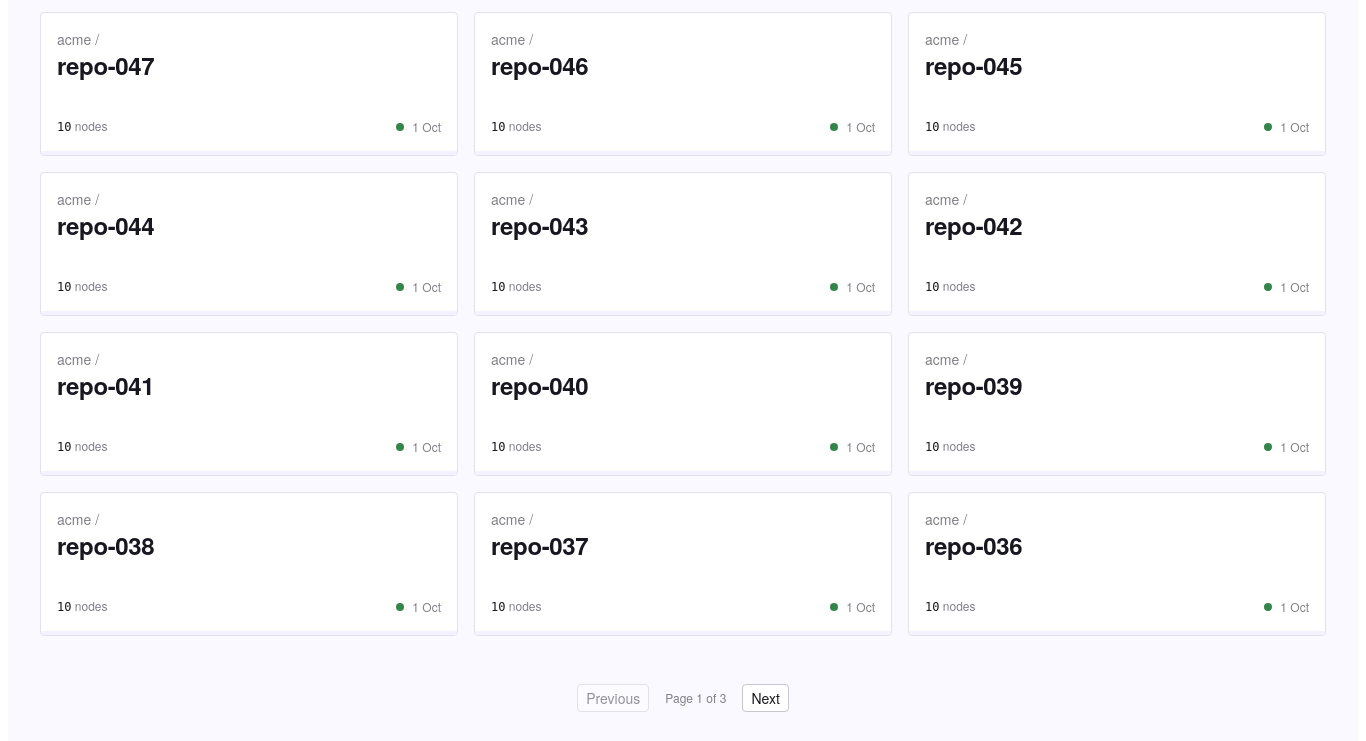
Dashboard paging › starts again from the first page when the filter changes, and hides the pager when one page is enough
(page scrolled)
Click the button "Next" at (766, 698), box left=742, top=684, right=789, bottom=712
(page scrolled)
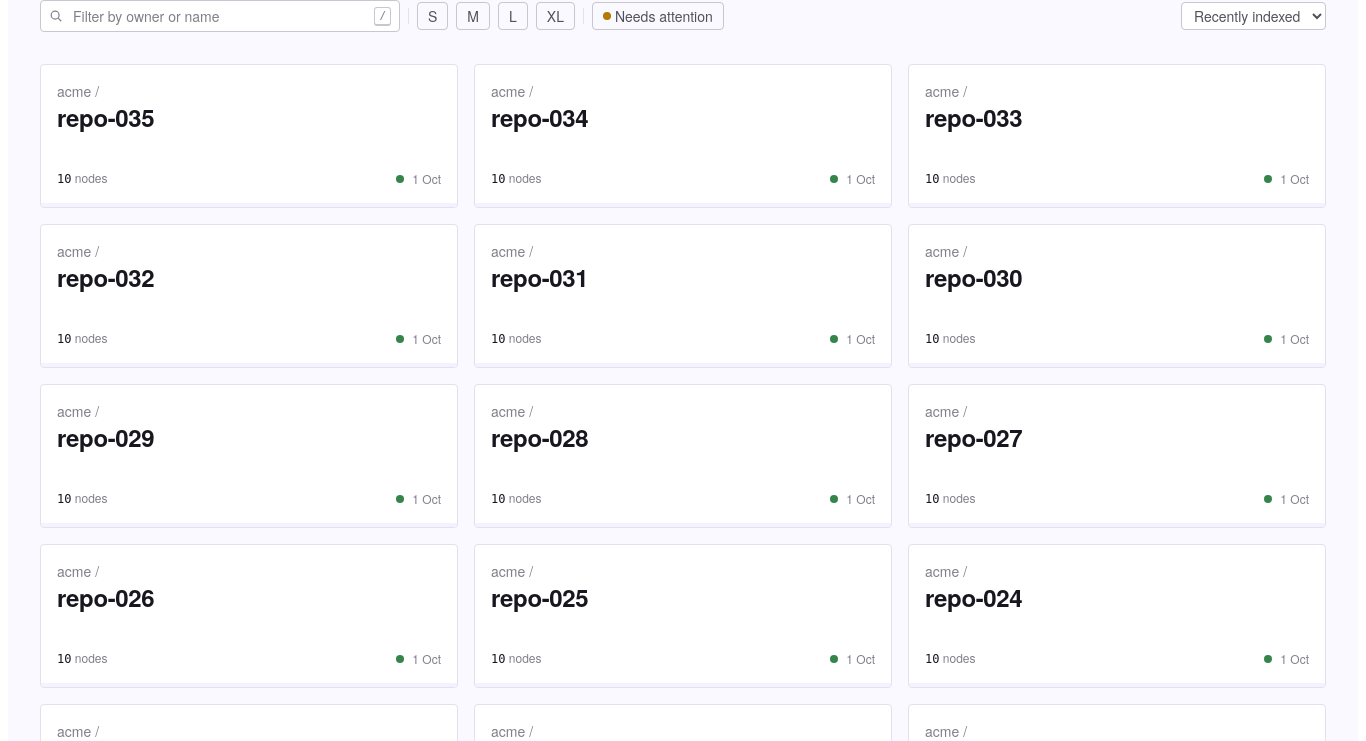
Type "repo-05" into the field named "Filter by owner or name" at (219, 16), box left=71, top=5, right=366, bottom=27
(page scrolled)
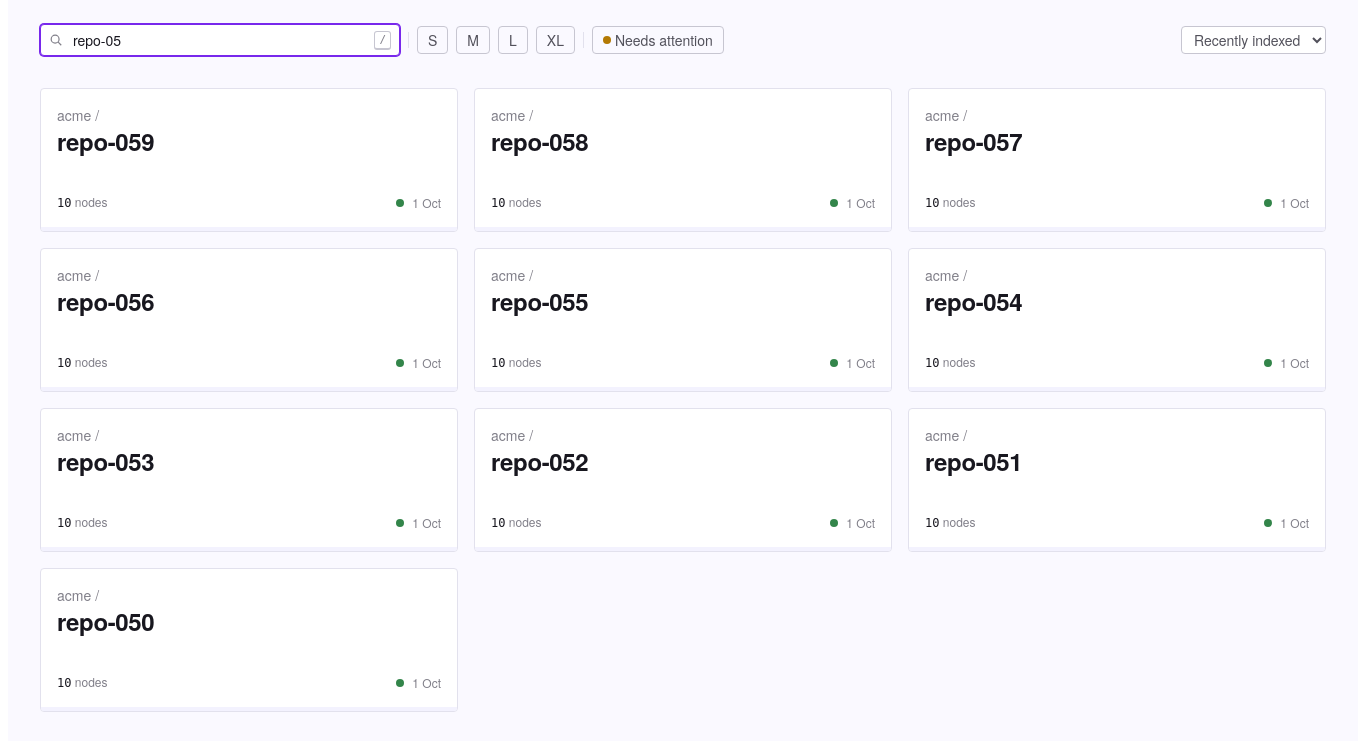
Check: the number of list items is 10
